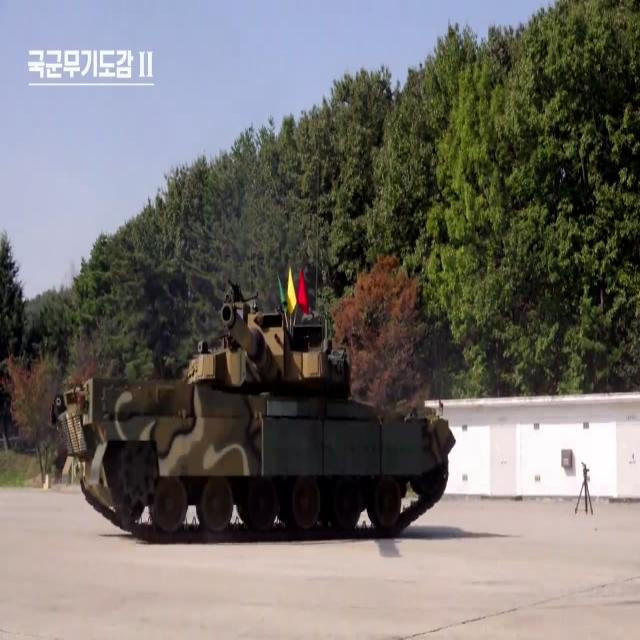korea tank: (50, 276, 456, 543)
